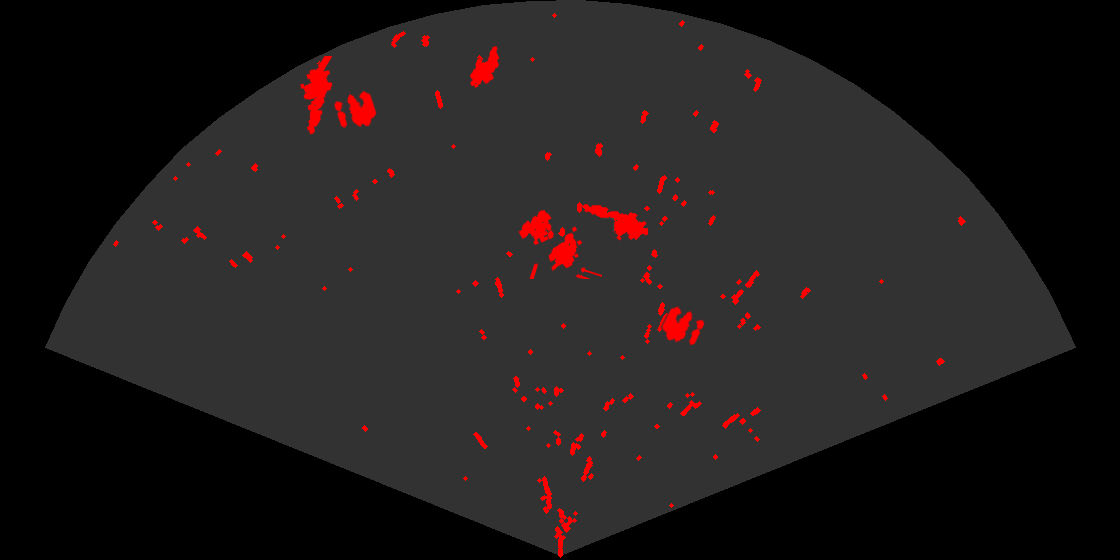AUV: (468, 44, 501, 89)
ball: (660, 305, 706, 347), (332, 89, 378, 130)
cage: (517, 208, 602, 279)
frogman: (299, 56, 334, 136), (581, 203, 648, 242)
